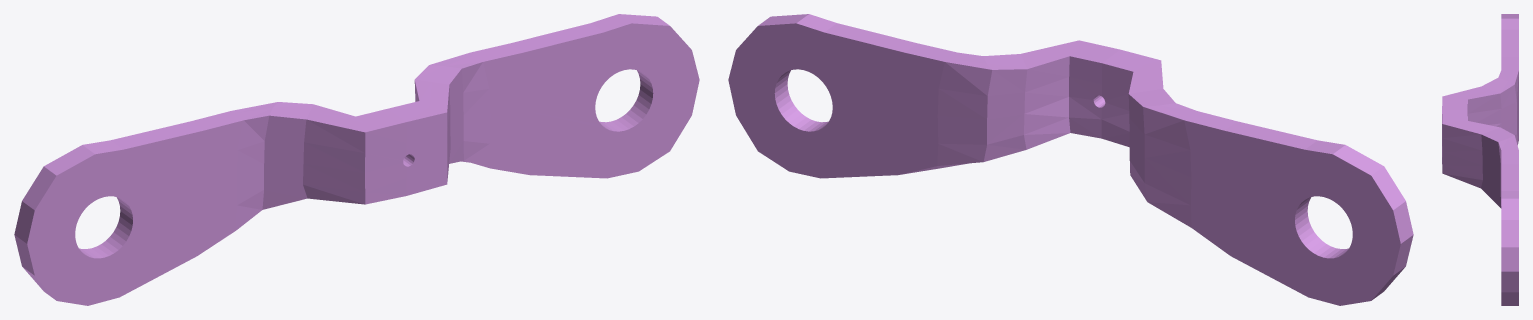
File: Piece 6.obj
The picture shows the model from 3 angles, left to right: view 1: azimuth 30°, elevation 25°; view 2: azimuth 150°, elevation 25°; view 3: azimuth 270°, elevation 25°; orthographic projection. The views are drawn at different scales.
Parts seen in each view (by area): view 1: Object.1; view 2: Object.1; view 3: Object.1.
Boxes of the visible parts, <box> form: Object.1: <box>14,14,699,305</box>; Object.1: <box>728,14,1413,305</box>; Object.1: <box>1442,14,1518,305</box>.
Bounding box in the file's own units: 139 × 29.67 × 20.06.
